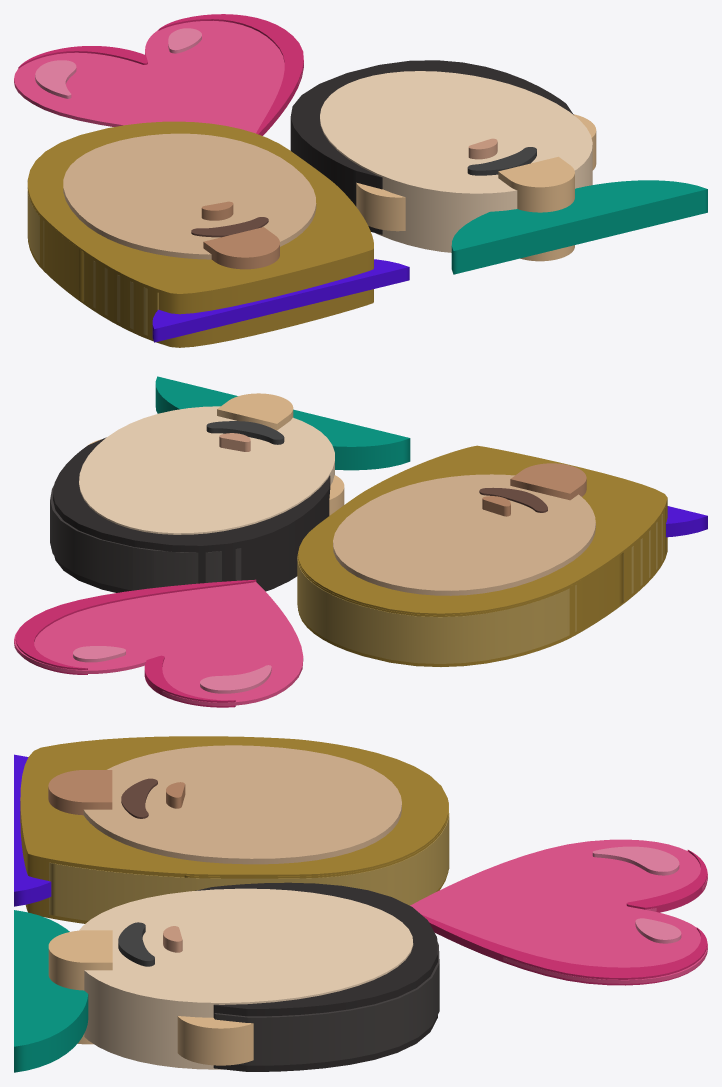
The model's file is emoji_u1f469_1f3fc_200d_2764_200d_1f468_1f3fb.glb.
3 renders of one model, top to bottom at view 1: azimuth 30°, elevation 25°; view 2: azimuth 150°, elevation 25°; view 3: azimuth 270°, elevation 25°, orthographic. The views are drawn at different scales.
Parts seen in each view (by area): view 1: emoji_u1f469_1f3fc_200d_2764_200d_1f468_1f3fb; view 2: emoji_u1f469_1f3fc_200d_2764_200d_1f468_1f3fb; view 3: emoji_u1f469_1f3fc_200d_2764_200d_1f468_1f3fb.
Part boxes in pixels (<box>): emoji_u1f469_1f3fc_200d_2764_200d_1f468_1f3fb: <box>14,14,707,347</box>; emoji_u1f469_1f3fc_200d_2764_200d_1f468_1f3fb: <box>14,376,707,707</box>; emoji_u1f469_1f3fc_200d_2764_200d_1f468_1f3fb: <box>14,736,707,1072</box>.
Size of the model in its own units: 0.0345 by 0.005 by 0.0339.
